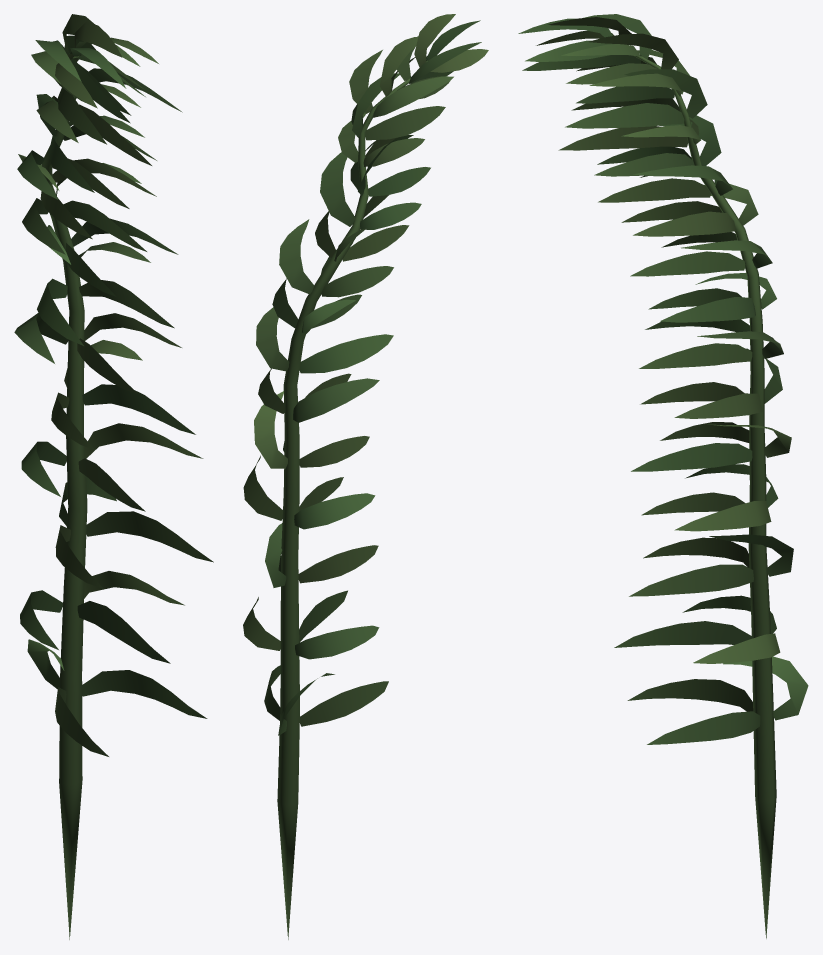
The picture shows the model from 3 angles, left to right: view 1: azimuth 30°, elevation 25°; view 2: azimuth 150°, elevation 25°; view 3: azimuth 270°, elevation 25°; orthographic projection. The views are drawn at different scales.
Visible parts, largest first — view 1: base.781; view 2: base.781; view 3: base.781.
Part boxes in pixels (<box>): base.781: <box>14,14,213,939</box>; base.781: <box>243,14,488,939</box>; base.781: <box>518,14,808,938</box>.
Bounding box in the file's own units: 0.1019 × 0.5 × 0.1474.
